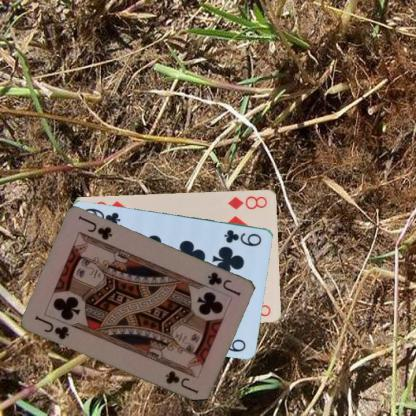8d: (225, 193, 268, 210)
9c: (221, 226, 263, 247)
Jc: (32, 312, 71, 341), (205, 269, 243, 297)
